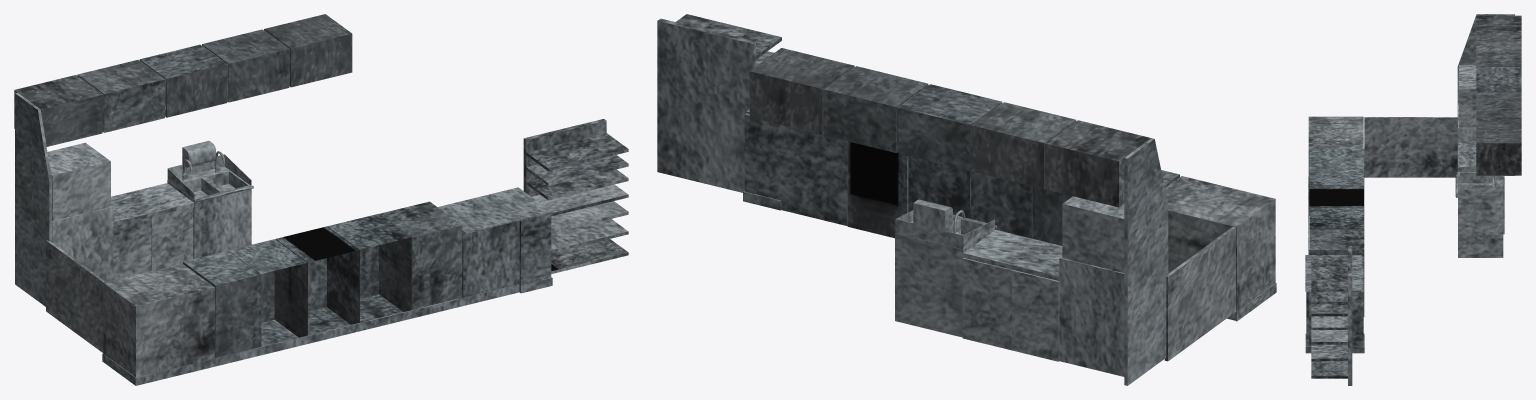
The model's file is store_95.obj.
The picture shows the model from 3 angles, left to right: view 1: azimuth 30°, elevation 25°; view 2: azimuth 150°, elevation 25°; view 3: azimuth 270°, elevation 25°; orthographic projection. The views are drawn at different scales.
Size of the model in its own units: 407 by 159 by 183.
